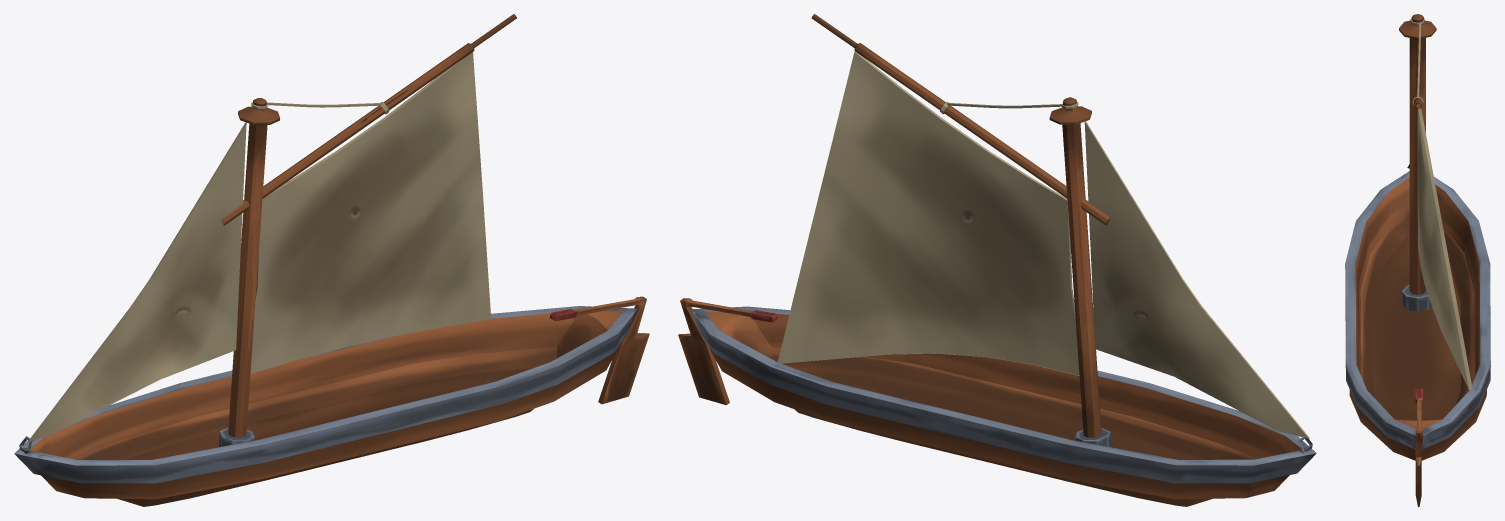
File: Bato.fbx
3 renders of one model, left to right at view 1: azimuth 30°, elevation 25°; view 2: azimuth 150°, elevation 25°; view 3: azimuth 270°, elevation 25°, orthographic. The views are drawn at different scales.
Parts seen in each view (by area): view 1: Bateau; view 2: Bateau; view 3: Bateau.
Boxes of the visible parts, box(x1,y1,x2,y2) form: Bateau: box(14, 14, 649, 506); Bateau: box(678, 14, 1316, 506); Bateau: box(1345, 14, 1490, 506).
Size of the model in its own units: 1103 by 679 by 253.
